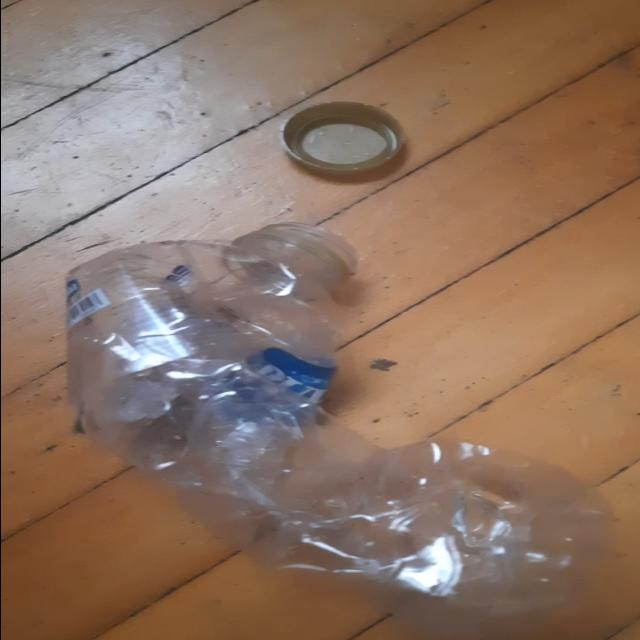Plastic: (62, 232, 620, 618)
